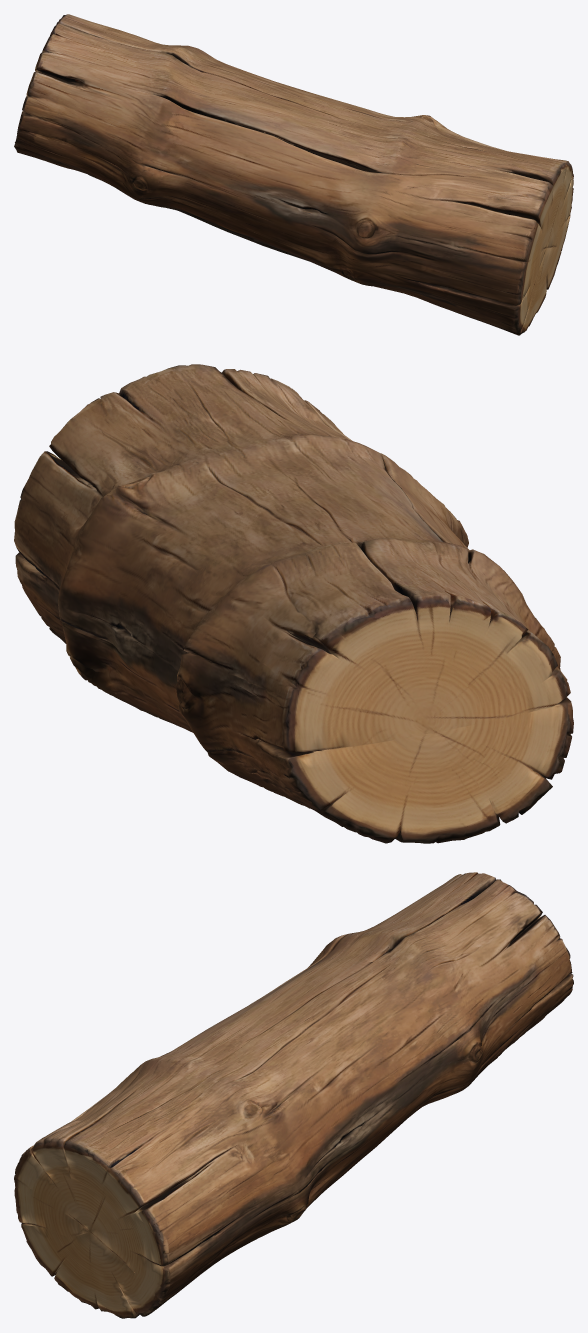
3 renders of one model, top to bottom at view 1: azimuth 30°, elevation 25°; view 2: azimuth 150°, elevation 25°; view 3: azimuth 270°, elevation 25°, orthographic. The views are drawn at different scales.
Parts seen in each view (by area): view 1: tripo_node_e7356d23-99f4-4db1-9a2d-8cab9fa1d9e8; view 2: tripo_node_e7356d23-99f4-4db1-9a2d-8cab9fa1d9e8; view 3: tripo_node_e7356d23-99f4-4db1-9a2d-8cab9fa1d9e8.
Boxes of the visible parts, x1=… form: tripo_node_e7356d23-99f4-4db1-9a2d-8cab9fa1d9e8: x1=14, y1=14, x2=573, y2=335; tripo_node_e7356d23-99f4-4db1-9a2d-8cab9fa1d9e8: x1=14, y1=364, x2=573, y2=843; tripo_node_e7356d23-99f4-4db1-9a2d-8cab9fa1d9e8: x1=14, y1=872, x2=573, y2=1318.
Bounding box in the file's own units: 0.9654 × 0.5283 × 0.981.
Materials: 1 (1 with a texture image).
